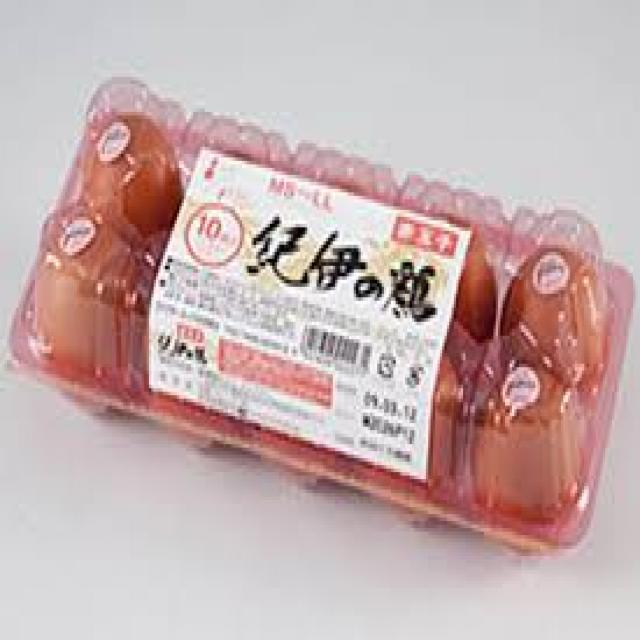egg: (7, 77, 635, 563)
